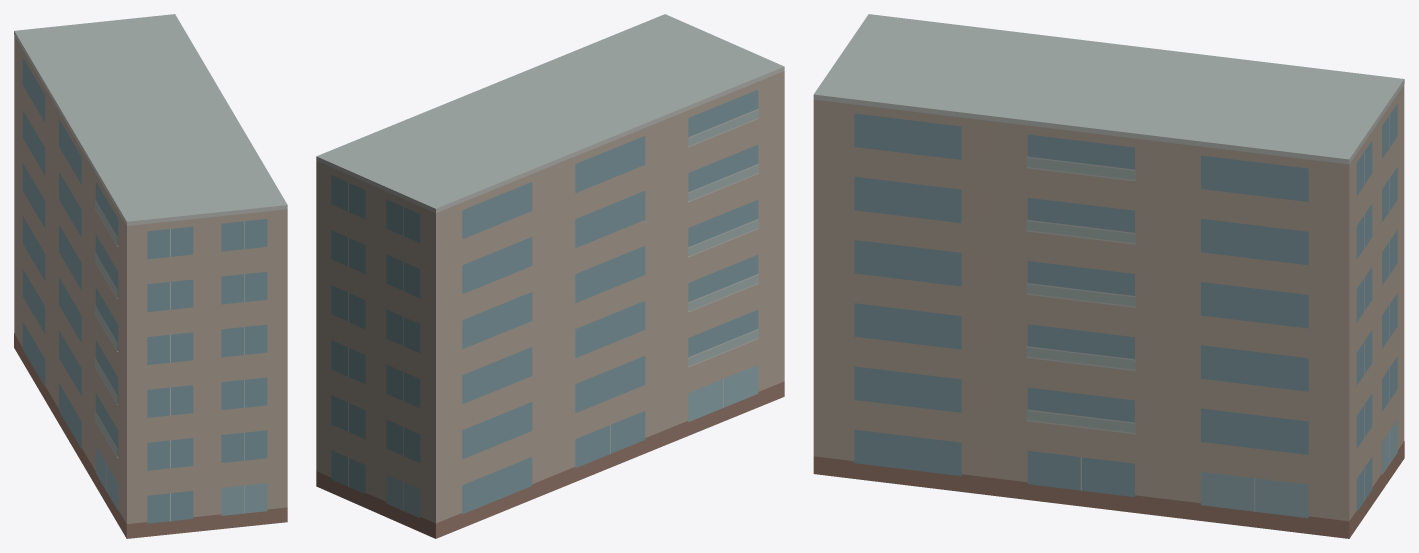
File: survey-upis-32994917.glb
3 renders of one model, left to right at view 1: azimuth 30°, elevation 25°; view 2: azimuth 150°, elevation 25°; view 3: azimuth 270°, elevation 25°, orthographic. The views are drawn at different scales.
Visible parts, largest first — view 1: survey-upis-32994917.tmp; view 2: survey-upis-32994917.tmp; view 3: survey-upis-32994917.tmp.
Boxes of the visible parts, x1,y1,x2,y2 form: survey-upis-32994917.tmp: [14, 14, 287, 538]; survey-upis-32994917.tmp: [316, 14, 784, 538]; survey-upis-32994917.tmp: [813, 14, 1404, 538].
Size of the model in its own units: 15.05 by 18.3 by 25.84.
